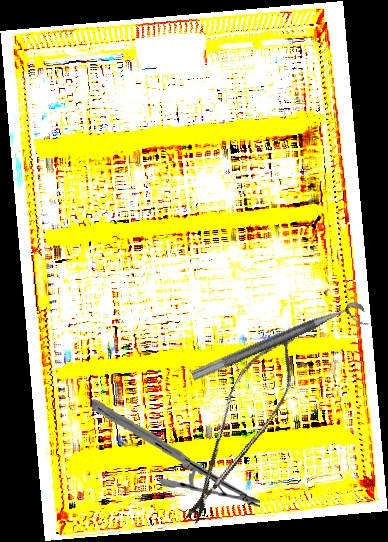Fixation Ring: (189, 298, 371, 396)
Micro Scissor: (168, 319, 313, 538)
Needle Holder: (88, 399, 264, 509)
